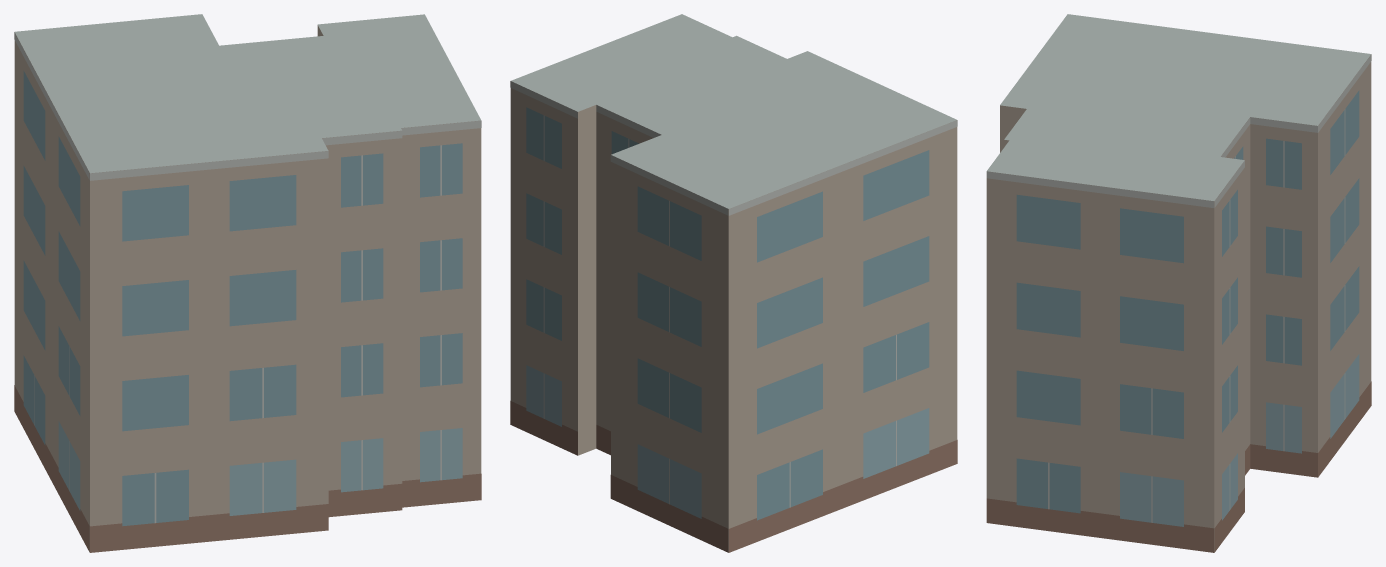
Rendered from survey-upis-32838373.glb.
3 views of the same model, side by side, from view 1: azimuth 30°, elevation 25°; view 2: azimuth 150°, elevation 25°; view 3: azimuth 270°, elevation 25° (orthographic). The views are drawn at different scales.
Parts seen in each view (by area): view 1: survey-upis-32838373.tmp; view 2: survey-upis-32838373.tmp; view 3: survey-upis-32838373.tmp.
Boxes of the visible parts, box(x1,y1,x2,y2) form: survey-upis-32838373.tmp: box(14, 14, 481, 552); survey-upis-32838373.tmp: box(510, 14, 957, 552); survey-upis-32838373.tmp: box(986, 14, 1371, 552).
Size of the model in its own units: 13.94 by 12.2 by 12.11.
